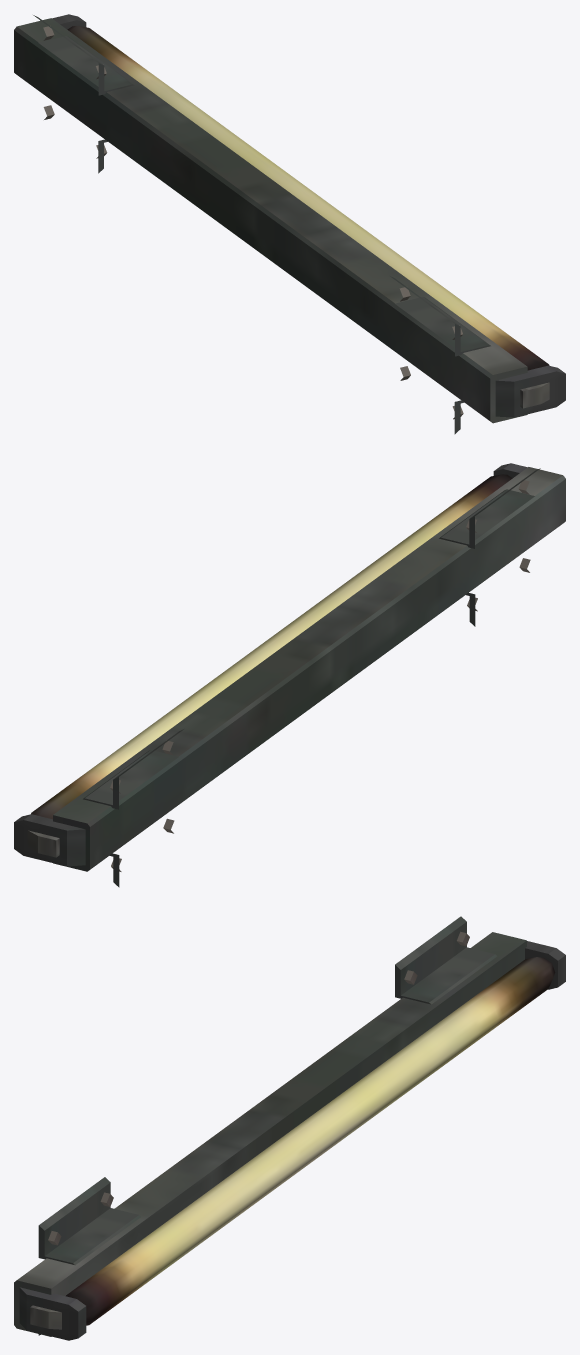
The model's file is lab_flourescentlight002b.glb.
3 renders of one model, top to bottom at view 1: azimuth 30°, elevation 25°; view 2: azimuth 150°, elevation 25°; view 3: azimuth 330°, elevation 25°, orthographic.
Visible parts, largest first — view 1: 0_prison_objects004_on; view 2: 0_prison_objects004_on; view 3: 0_prison_objects004_on.
Boxes of the visible parts, x1,y1,x2,y2 form: 0_prison_objects004_on: (14,14,565,434); 0_prison_objects004_on: (14,463,565,887); 0_prison_objects004_on: (14,916,565,1340).
Bounding box in the file's own units: 0.1431 × 0.1958 × 1.58.
1 material, 1 textured.
